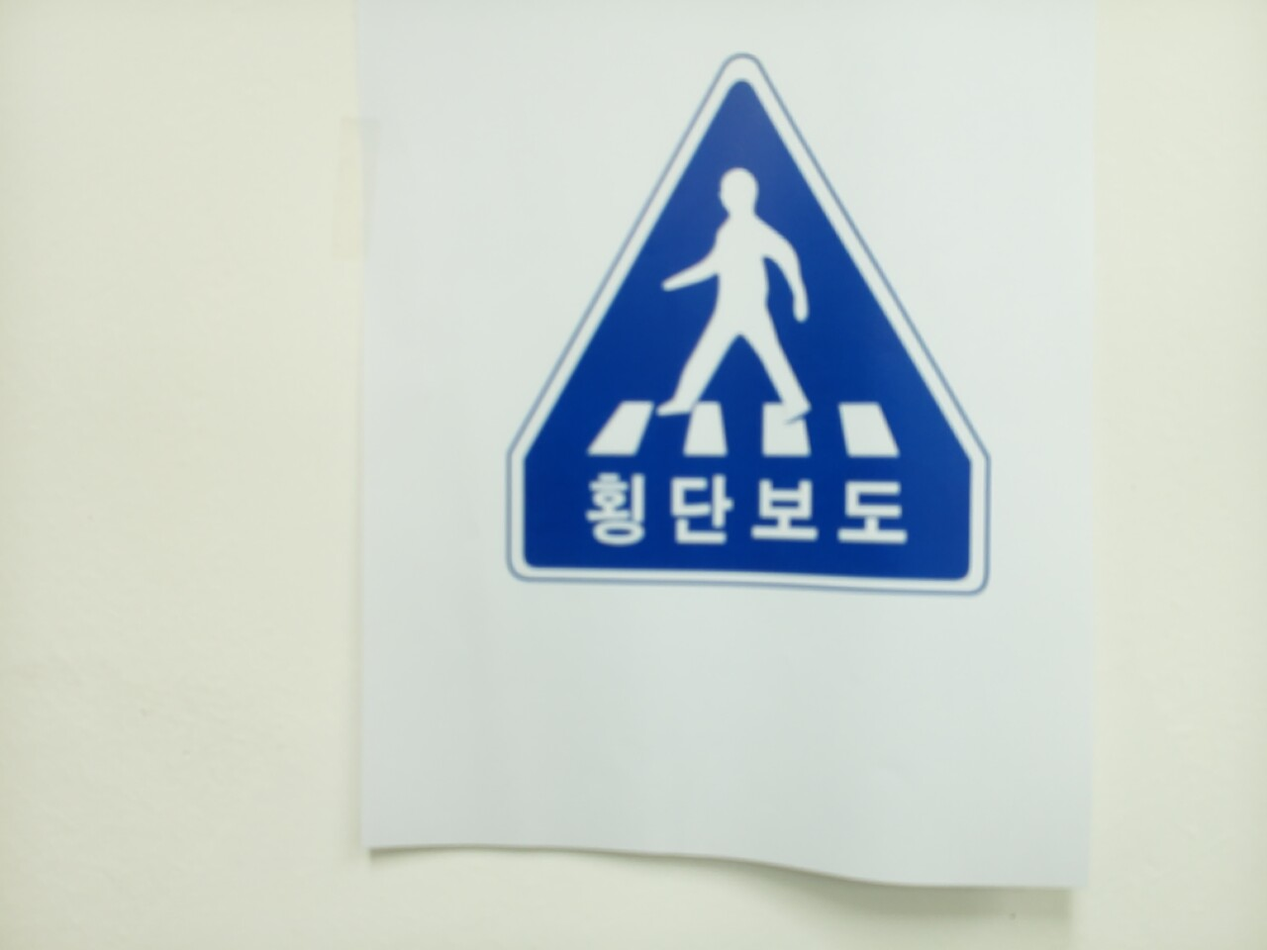crosswalk: (510, 67, 984, 595)
